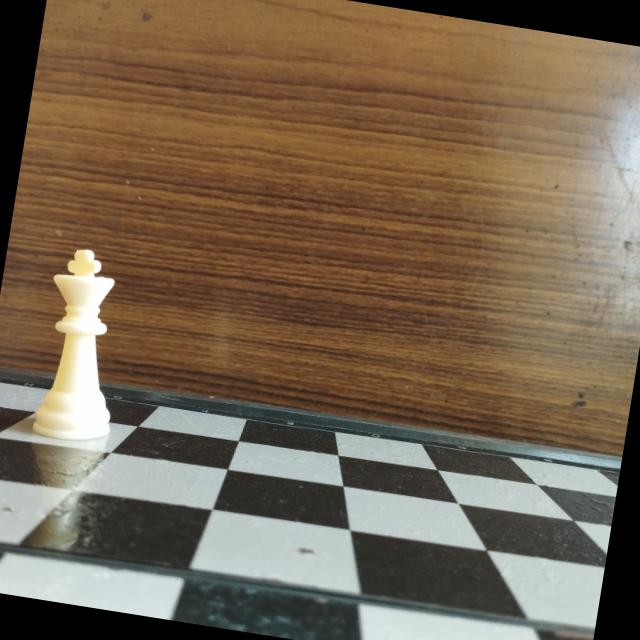White King: (16, 237, 148, 453)
